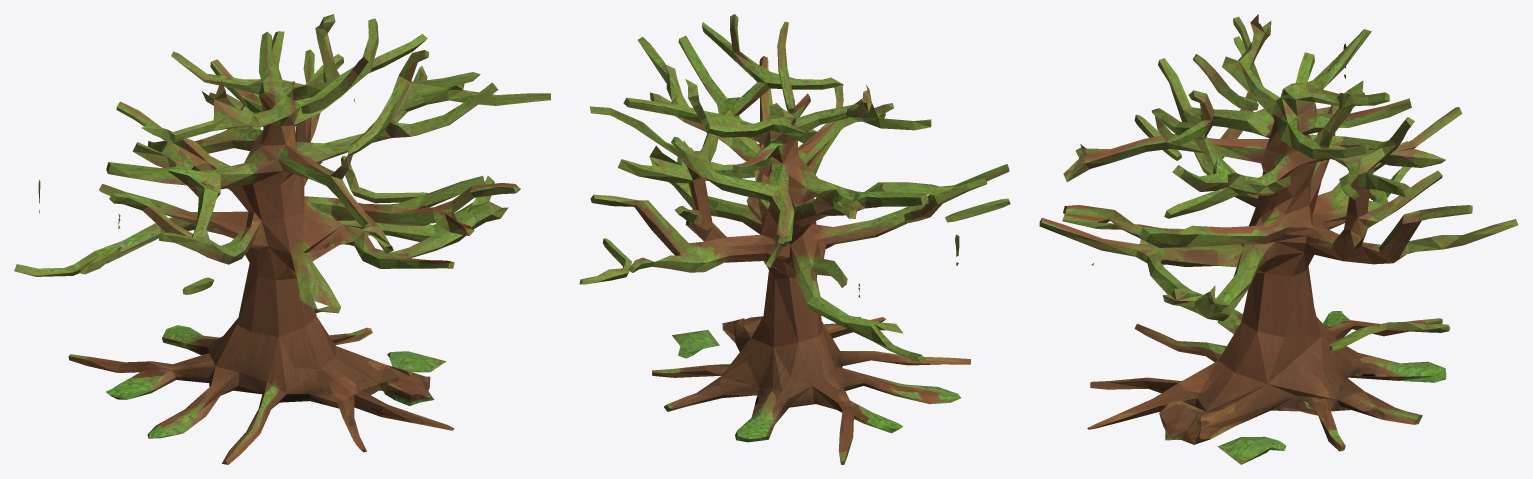
File: smalltree.obj
The picture shows the model from 3 angles, left to right: view 1: azimuth 30°, elevation 25°; view 2: azimuth 150°, elevation 25°; view 3: azimuth 270°, elevation 25°; orthographic projection. The views are drawn at different scales.
Visible parts, largest first — view 1: tripo_node_2cf8d778-2dfc-4d77-bd61-f11ddf166b4c; view 2: tripo_node_2cf8d778-2dfc-4d77-bd61-f11ddf166b4c; view 3: tripo_node_2cf8d778-2dfc-4d77-bd61-f11ddf166b4c.
Boxes of the visible parts, <box> form: tripo_node_2cf8d778-2dfc-4d77-bd61-f11ddf166b4c: <box>14,14,550,464</box>; tripo_node_2cf8d778-2dfc-4d77-bd61-f11ddf166b4c: <box>579,14,1010,464</box>; tripo_node_2cf8d778-2dfc-4d77-bd61-f11ddf166b4c: <box>1039,14,1518,464</box>.
Bounding box in the file's own units: 0.9472 × 0.7317 × 0.8829.
